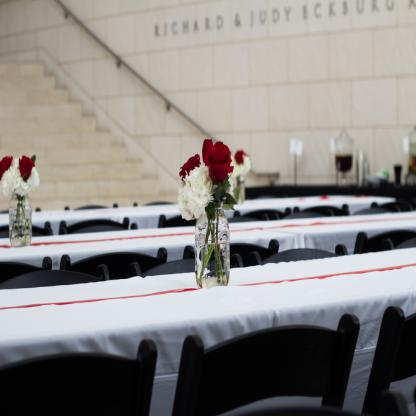vase: (192, 201, 230, 287), (7, 188, 32, 246)
